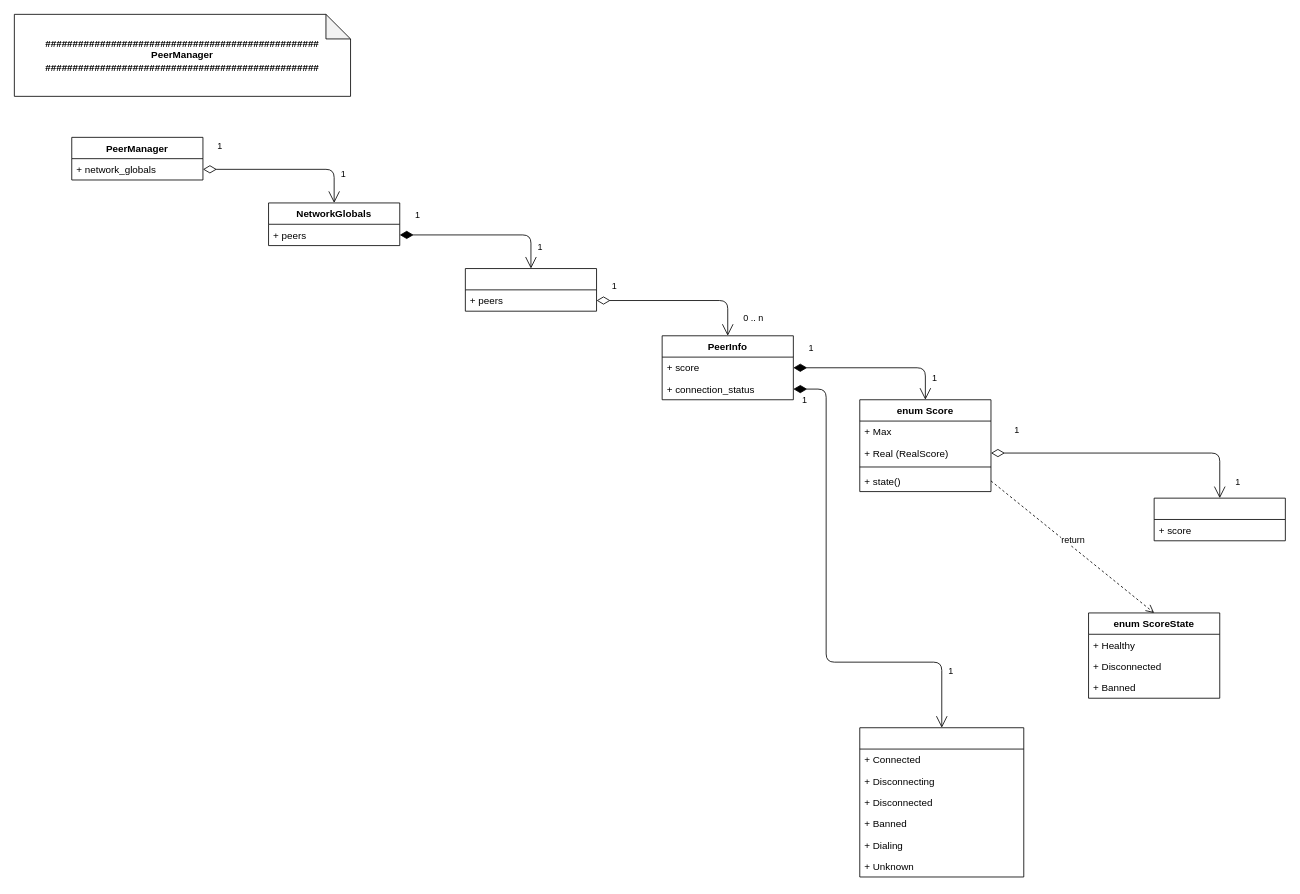
This 1300x894 diagram has some shape labels left out. The shapes that lost their labels are listed below. From the top down, each one's box as (x1, y1, x2, y2) in pixels, then its label:
(465, 268, 597, 311): PeerDB
(1153, 497, 1285, 541): RealScore
(859, 727, 1024, 877): enum PeerConnectionStatus
